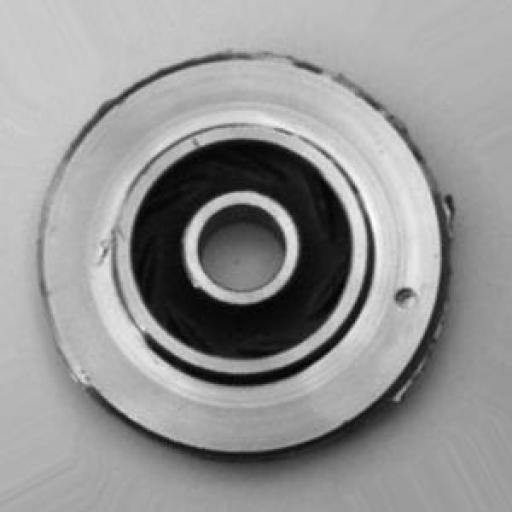defect: (26, 33, 464, 466)
